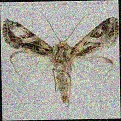Spodoptera litura: (1, 10, 120, 108)
